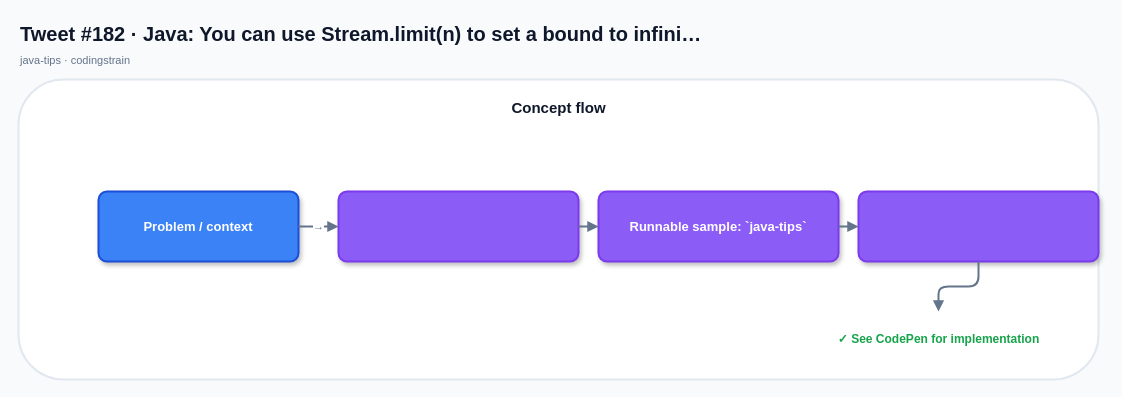
This 1122x397 diagram has some shape labels left out. Each missing label, with the centre of its shape:
#Java #SoftwareDevelopment: point (459, 227)
Architecture diagram + Carbon CodePen below: point (979, 227)
